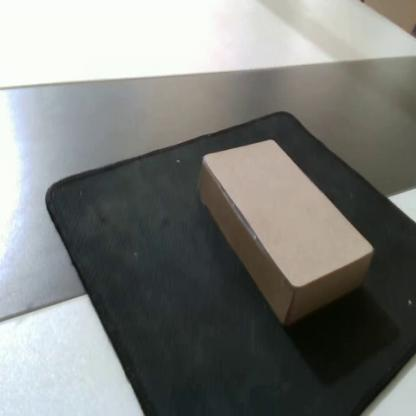cube: (183, 129, 386, 337)
